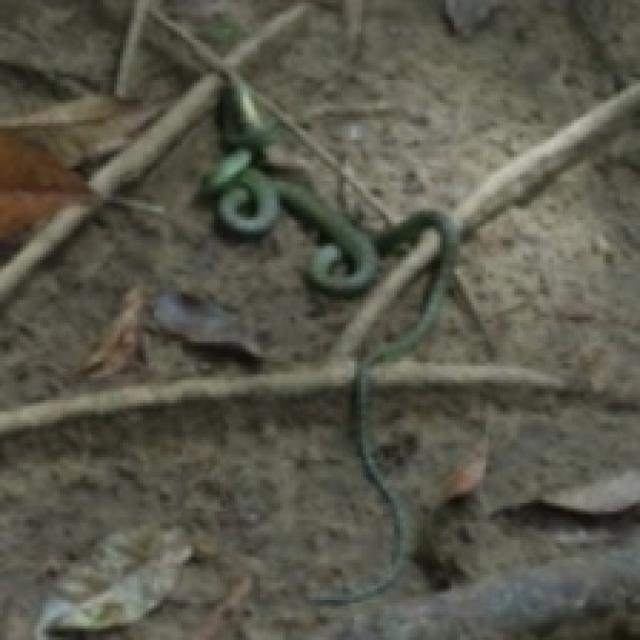paradise tree snake: (203, 80, 374, 291)
